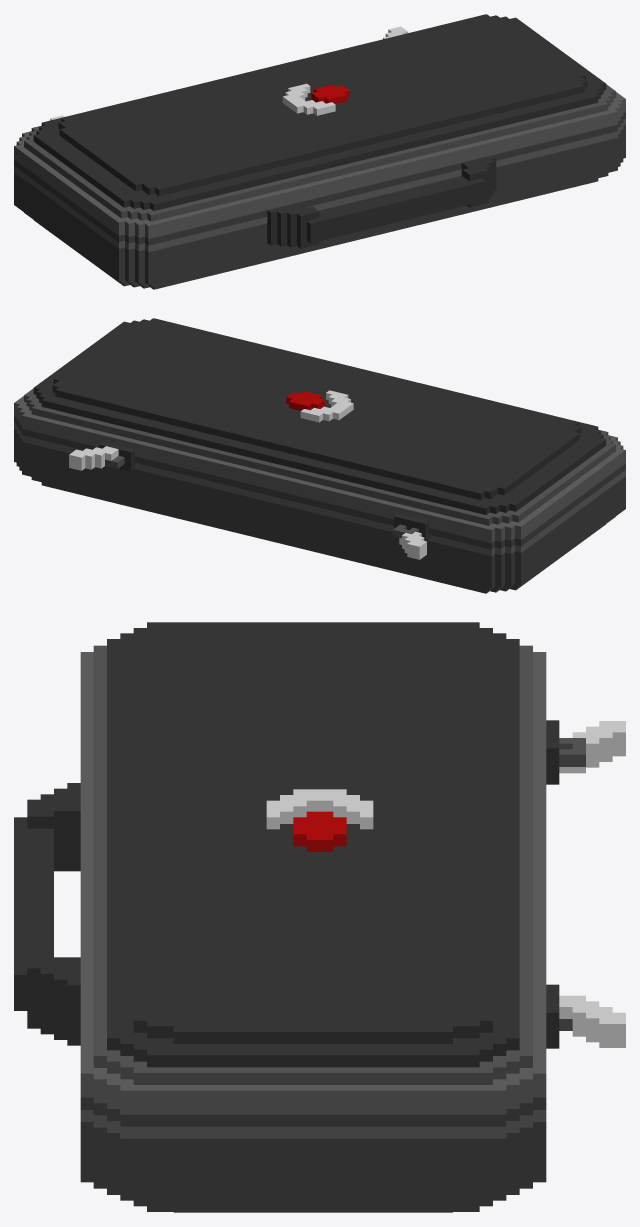
File: SteamDeck.obj
3 renders of one model, top to bottom at view 1: azimuth 30°, elevation 25°; view 2: azimuth 150°, elevation 25°; view 3: azimuth 270°, elevation 25°, orthographic. The views are drawn at different scales.
Bounding box in the file's own units: 8.1 × 1.6 × 4.6.
Materials: 1 (1 with a texture image).
